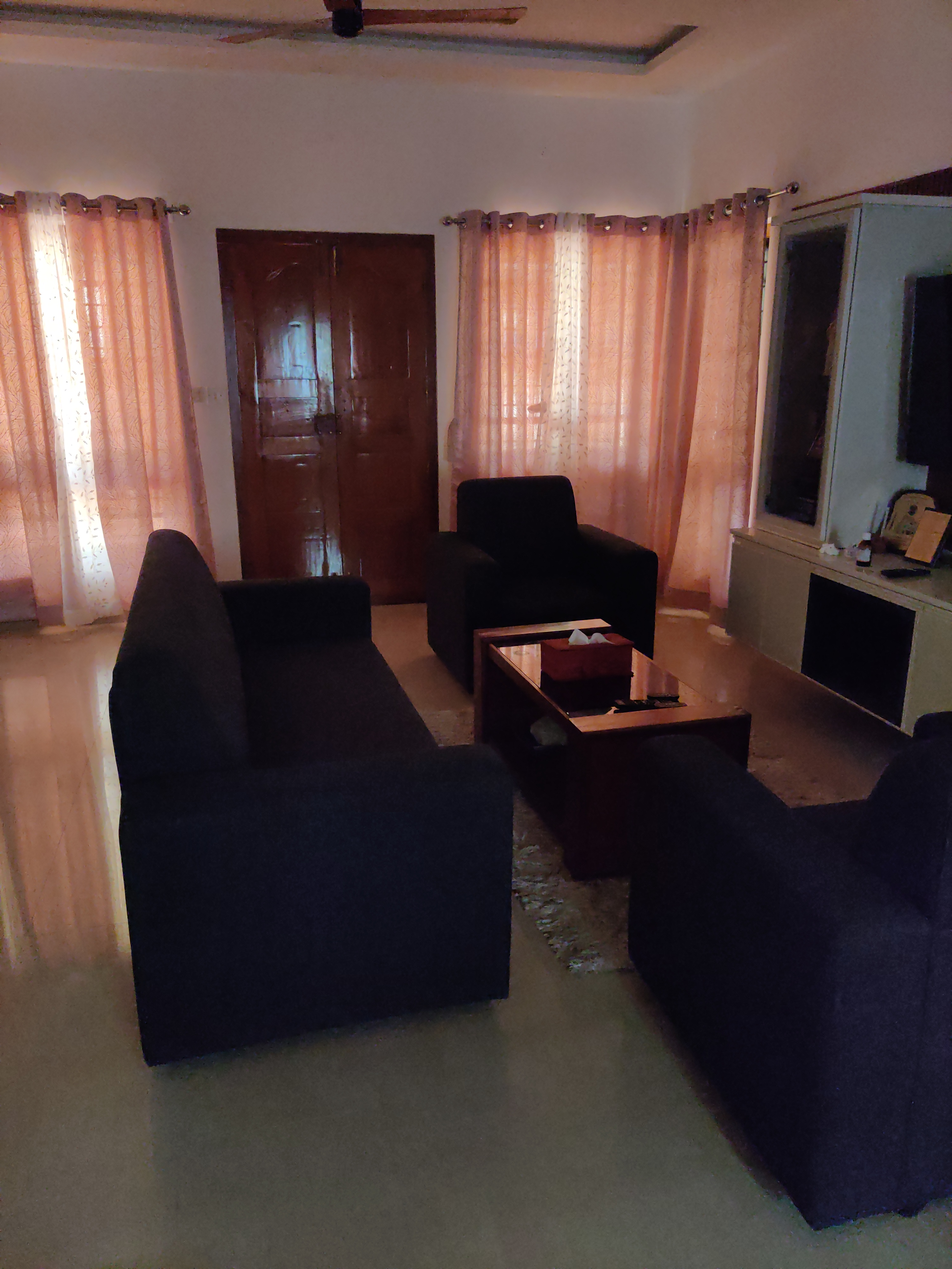sofa: (111, 528, 516, 1069), (618, 719, 952, 1233), (429, 468, 659, 689)
table: (473, 616, 752, 879)
